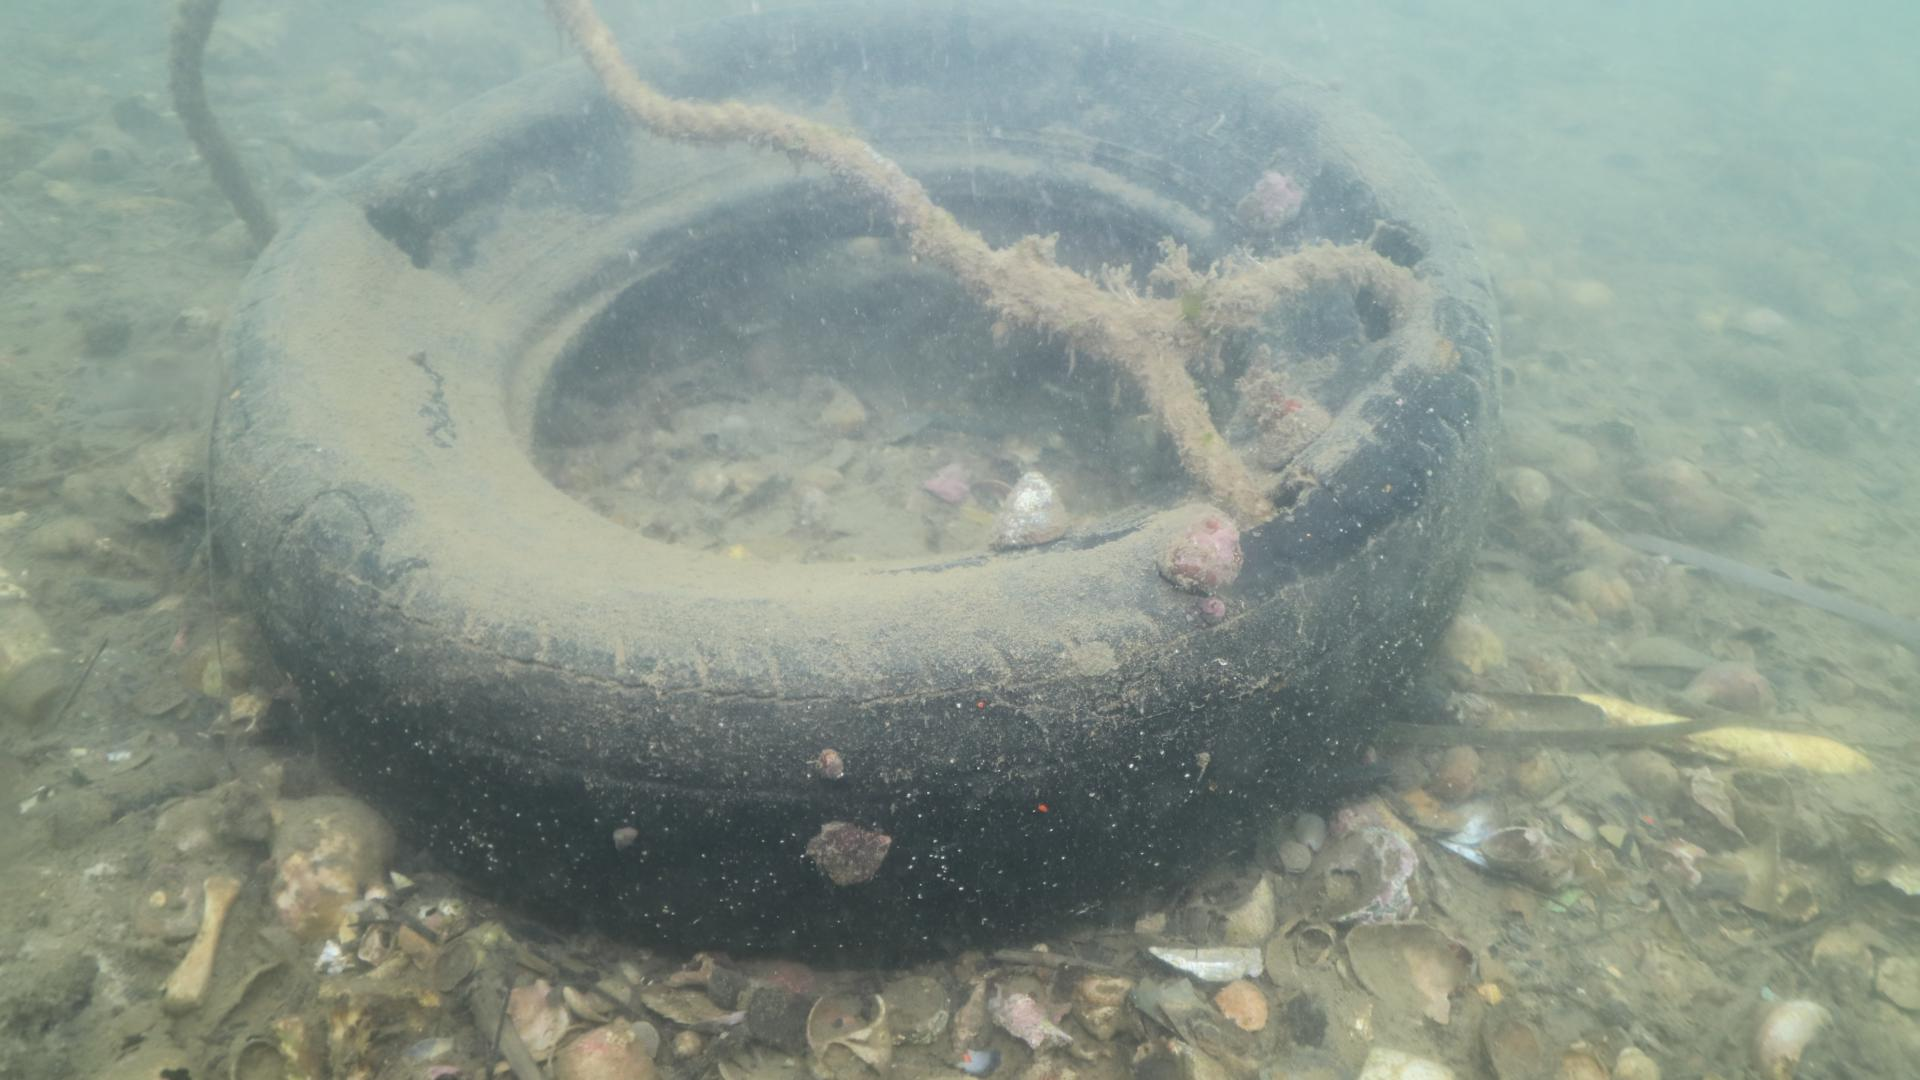rope: (165, 0, 1432, 512)
tire: (206, 0, 1505, 984)
